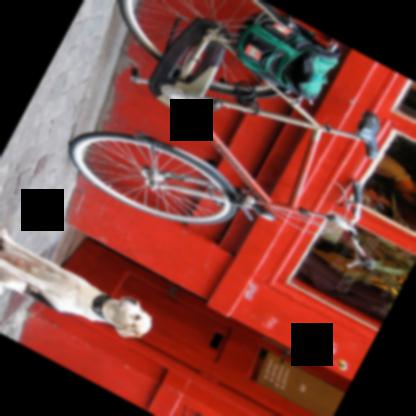handbag: (237, 16, 339, 100)
